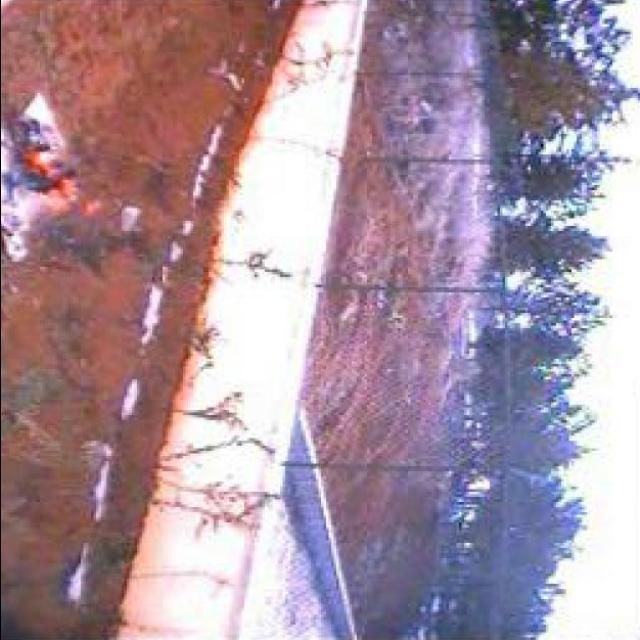Fire: (5, 132, 105, 221)
